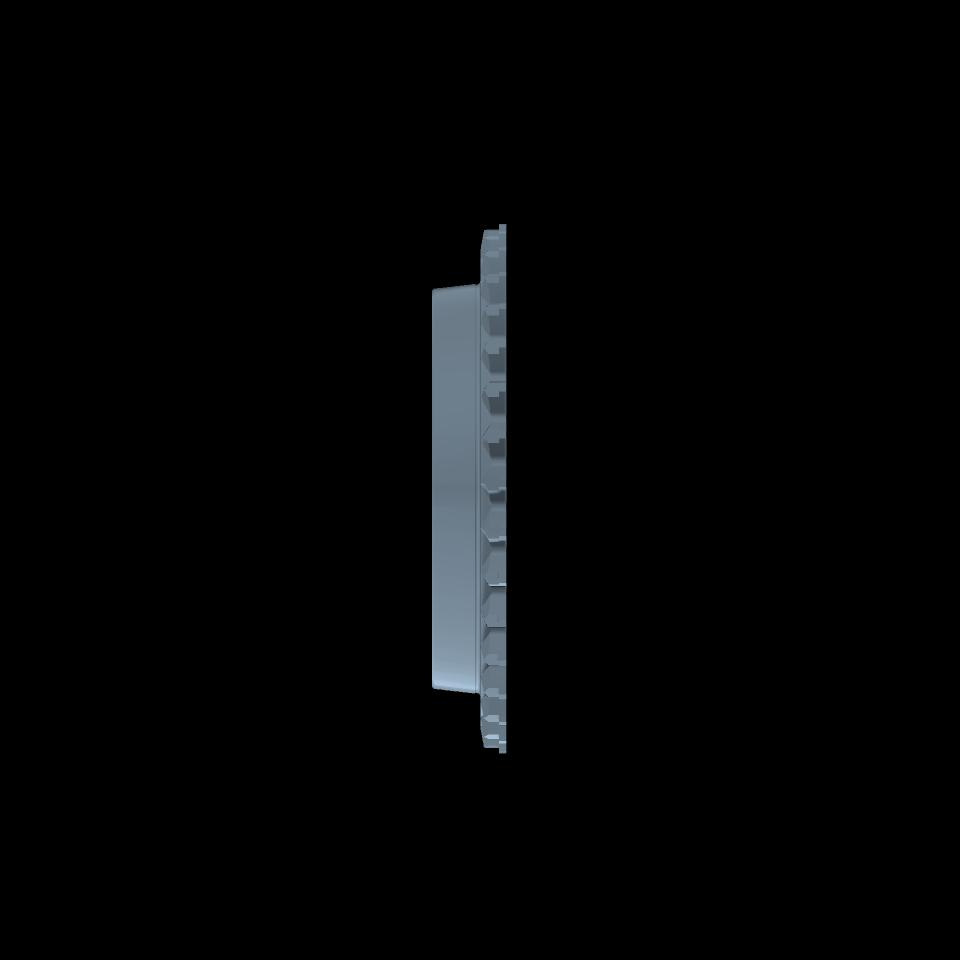Straight: (487, 223, 504, 755)
